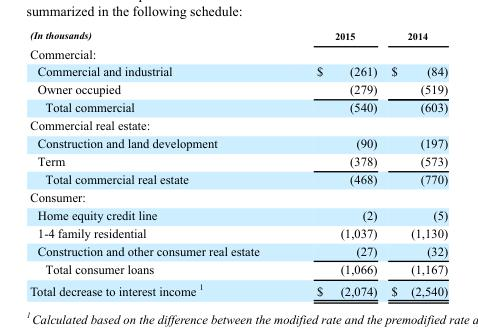table: (29, 29, 447, 297)
table column: (29, 29, 287, 297), (287, 29, 383, 297), (383, 29, 447, 297)
table column header: (29, 29, 447, 43)
table projected row header: (29, 43, 447, 62), (29, 115, 447, 134), (29, 187, 447, 206)
table row: (29, 259, 447, 279), (29, 43, 447, 62), (29, 115, 447, 134), (29, 187, 447, 206), (29, 79, 447, 97), (29, 97, 447, 115), (29, 151, 447, 169), (29, 169, 447, 187), (29, 223, 447, 241), (29, 241, 447, 259), (29, 279, 447, 297), (29, 62, 447, 79), (29, 134, 447, 151), (29, 206, 447, 223), (29, 29, 447, 43)
